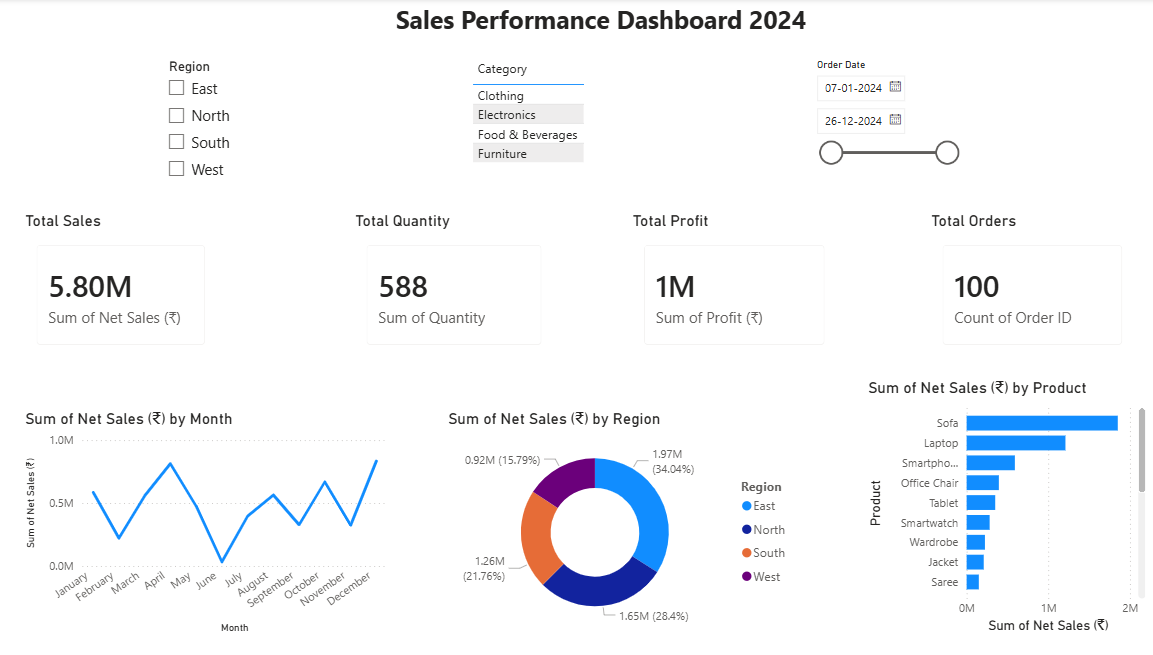

What the dashboard file says about the page in this screenshot:
{"tool":"powerbi","page":{"name":"Page 1","canvas":[1280,720],"ordinal":0},"visuals":[{"type":"cardVisual","title":"Total Sales","fields":{"Data":["Sum(Sales Data.Net Sales (₹))"]},"box":[40.5,229.9,217,161.9],"z":0},{"type":"cardVisual","title":"Total Profit","fields":{"Data":["Sum(Sales Data.Profit (₹))"]},"box":[696.3,229.9,229.9,161.9],"z":1000},{"type":"cardVisual","title":"Total Quantity","fields":{"Data":["Sum(Sales Data.Quantity)"]},"box":[396.7,229.9,223.5,161.9],"z":2000},{"type":"cardVisual","title":"Total Orders","fields":{"Data":["Count(Sales Data.Order ID)"]},"box":[1018.5,229.9,228.3,161.9],"z":3000},{"type":"lineChart","fields":{"Category":["Sales Data.Order Date.Variation.Date Hierarchy.Month"],"Y":["Sum(Sales Data.Net Sales (₹))"]},"box":[40.5,443.7,399.9,246.1],"z":4000},{"type":"clusteredBarChart","fields":{"Y":["Sum(Sales Data.Net Sales (₹))"],"Category":["Sales Data.Product"]},"box":[950.5,409.7,309.3,280.1],"z":5000},{"type":"donutChart","fields":{"Category":["Sales Data.Region"],"Y":["Sum(Sales Data.Net Sales (₹))"]},"box":[497.1,443.7,390.2,246.1],"z":6000},{"type":"slicer","fields":{"Values":["Sales Data.Region"]},"box":[187.8,59.9,189.4,145.7],"z":7000},{"type":"slicer","fields":{"Values":["Sales Data.Order Date"]},"box":[887.3,59.9,174.9,145.7],"z":8000},{"type":"tableEx","fields":{"Values":["Sales Data.Category"]},"box":[523,59.9,173.3,145.7],"z":9000},{"type":"textbox","box":[440.4,0,510.1,47],"z":10000}]}

Visuals, with their boxes in screenshot pixels (x1, y1, x2, y2), scaled from the page's 1280x720 canvas onto the 1153x655 screenshot:
"Total Sales" cardVisual: bbox=[36, 209, 232, 356]
"Total Profit" cardVisual: bbox=[627, 209, 834, 356]
"Total Quantity" cardVisual: bbox=[357, 209, 559, 356]
"Total Orders" cardVisual: bbox=[917, 209, 1123, 356]
lineChart - Sales Data.Order Date.Variation.Date Hierarchy.Month x Sum(Sales Data.Net Sales (₹)): bbox=[36, 404, 397, 628]
clusteredBarChart - Sum(Sales Data.Net Sales (₹)) x Sales Data.Product: bbox=[856, 373, 1135, 628]
donutChart - Sales Data.Region x Sum(Sales Data.Net Sales (₹)): bbox=[448, 404, 799, 628]
slicer - Sales Data.Region: bbox=[169, 54, 340, 187]
slicer - Sales Data.Order Date: bbox=[799, 54, 957, 187]
tableEx - Sales Data.Category: bbox=[471, 54, 627, 187]
textbox: bbox=[397, 0, 856, 43]
